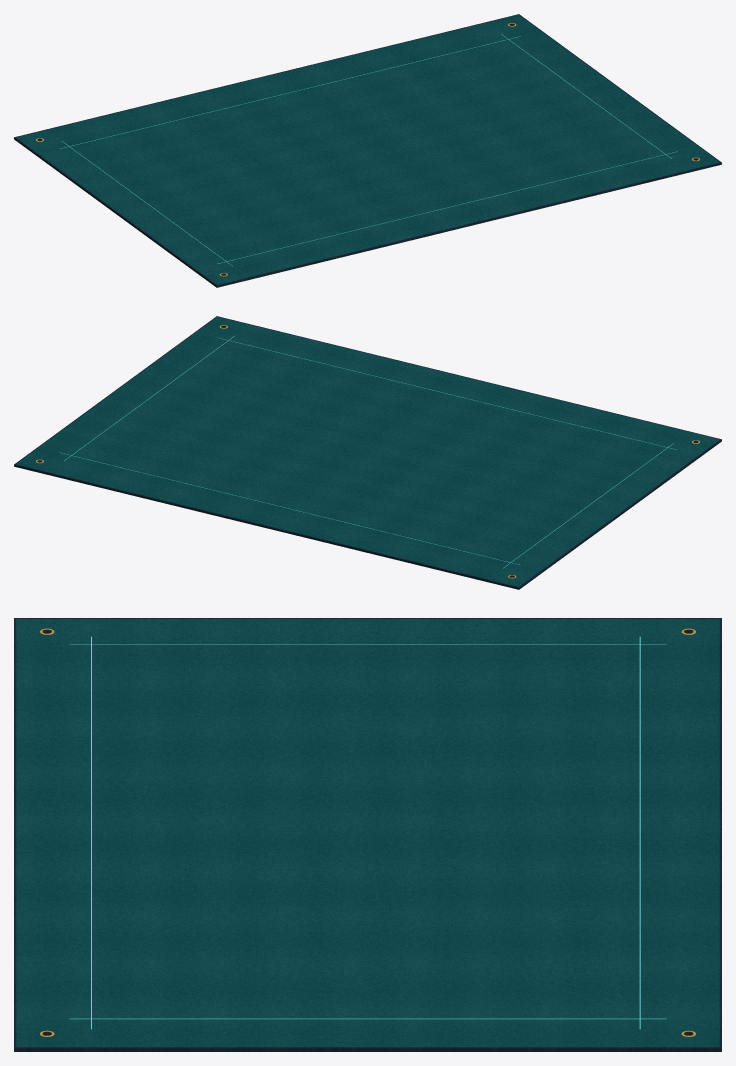
The model's file is 221_L117_PCB_Main.obj.
3 views of the same model, one above another, from view 1: azimuth 30°, elevation 25°; view 2: azimuth 150°, elevation 25°; view 3: azimuth 270°, elevation 25° (orthographic). The views are drawn at different scales.
Parts seen in each view (by area): view 1: 001_Mask_Teal__PSMAT__Mask_Teal, 000_PCB_Midnight__PSMAT__PCB_Midnight; view 2: 001_Mask_Teal__PSMAT__Mask_Teal, 000_PCB_Midnight__PSMAT__PCB_Midnight; view 3: 001_Mask_Teal__PSMAT__Mask_Teal, 000_PCB_Midnight__PSMAT__PCB_Midnight, 013_Silkscreen_Cyan__PSMAT__Silkscreen_Cyan, 010_Silkscreen_Cyan__PSMAT__Silkscreen_Cyan.
Part boxes in pixels (x1=…): 001_Mask_Teal__PSMAT__Mask_Teal: x1=16, y1=15, x2=719, y2=284; 000_PCB_Midnight__PSMAT__PCB_Midnight: x1=14, y1=14, x2=721, y2=287; 001_Mask_Teal__PSMAT__Mask_Teal: x1=16, y1=317, x2=719, y2=586; 000_PCB_Midnight__PSMAT__PCB_Midnight: x1=14, y1=316, x2=721, y2=589; 001_Mask_Teal__PSMAT__Mask_Teal: x1=16, y1=619, x2=719, y2=1047; 000_PCB_Midnight__PSMAT__PCB_Midnight: x1=14, y1=618, x2=721, y2=1051; 013_Silkscreen_Cyan__PSMAT__Silkscreen_Cyan: x1=69, y1=1018, x2=666, y2=1019; 010_Silkscreen_Cyan__PSMAT__Silkscreen_Cyan: x1=639, y1=636, x2=640, y2=1029.
Bounding box in the file's own units: 0.46 × 0.00212 × 0.32.
Materials: 5 (5 with a texture image).
